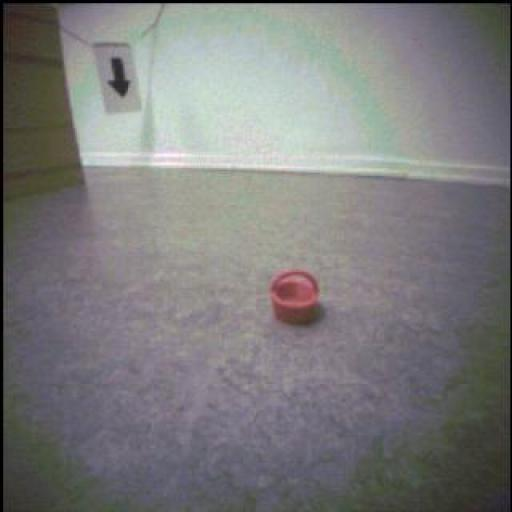Arrow: (110, 59, 131, 97)
Bucket: (269, 270, 323, 327)
